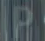Parking: (8, 5, 35, 40)
